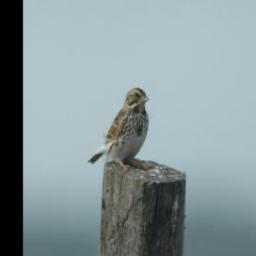Sparrow: (87, 86, 151, 171)
